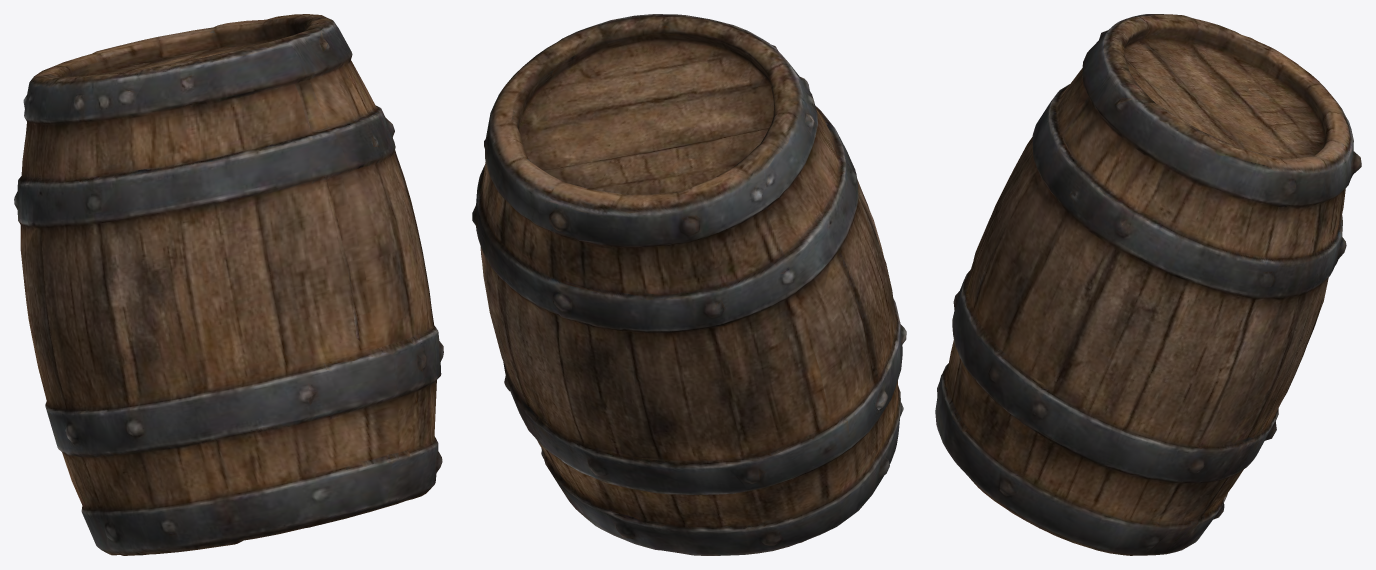
3 views of the same model, side by side, from view 1: azimuth 30°, elevation 25°; view 2: azimuth 150°, elevation 25°; view 3: azimuth 270°, elevation 25° (orthographic). The views are drawn at different scales.
Parts seen in each view (by area): view 1: riveted_wood_barrel_baked; view 2: riveted_wood_barrel_baked; view 3: riveted_wood_barrel_baked.
Boxes of the visible parts, <box> form: riveted_wood_barrel_baked: <box>14,14,443,555</box>; riveted_wood_barrel_baked: <box>472,14,906,555</box>; riveted_wood_barrel_baked: <box>935,14,1361,555</box>.
Bounding box in the file's own units: 0.6829 × 0.9096 × 0.7516.
1 material, 1 textured.
